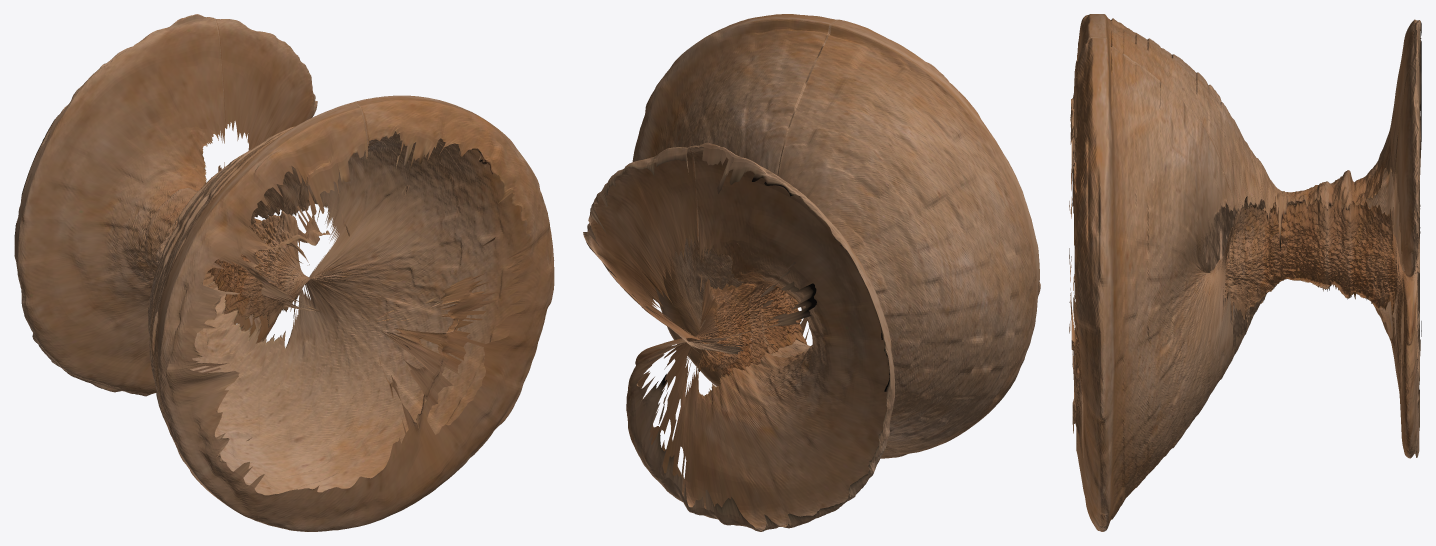
3 views of the same model, side by side, from view 1: azimuth 30°, elevation 25°; view 2: azimuth 150°, elevation 25°; view 3: azimuth 270°, elevation 25° (orthographic). The views are drawn at different scales.
Parts seen in each view (by area): view 1: geometry_0; view 2: geometry_0; view 3: geometry_0.
Boxes of the visible parts, x1,y1,x2,y2 form: geometry_0: (14, 14, 554, 531); geometry_0: (583, 14, 1040, 531); geometry_0: (1069, 14, 1421, 531).
Size of the model in its own units: 1.98 by 2 by 1.36.
Materials: 1 (1 with a texture image).
